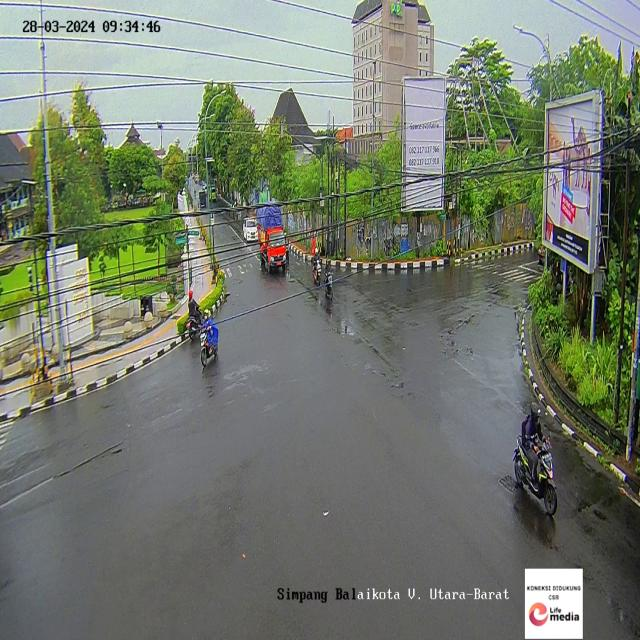car: (244, 212, 258, 242)
motorcycle: (514, 402, 558, 522), (198, 308, 219, 368), (187, 292, 203, 332), (312, 241, 323, 285), (324, 260, 334, 294)
truck: (254, 211, 286, 275)
